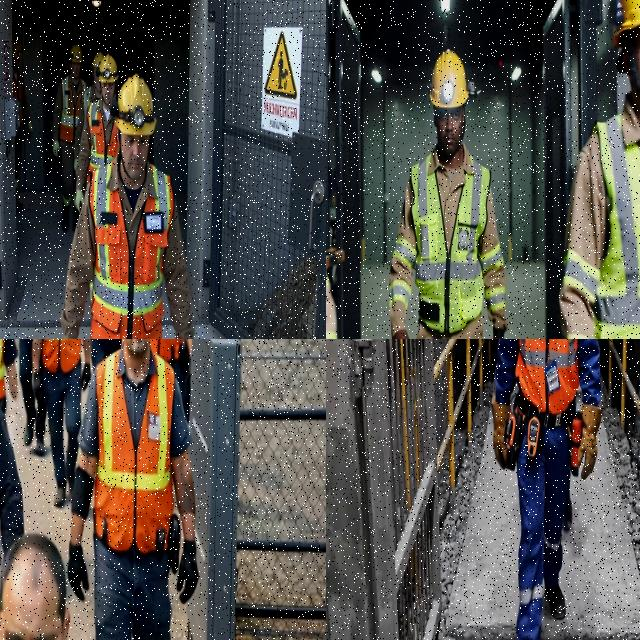Vest: (94, 350, 174, 553), (90, 161, 173, 338), (411, 155, 490, 333), (594, 115, 639, 338), (548, 339, 578, 415), (87, 100, 118, 171), (60, 77, 87, 143), (42, 339, 81, 373), (151, 339, 183, 361), (13, 72, 23, 123), (0, 339, 5, 400)
Worker: (68, 339, 198, 639), (62, 75, 193, 338), (390, 51, 507, 338), (492, 339, 601, 639), (560, 0, 639, 338), (33, 339, 91, 508), (0, 534, 69, 639), (75, 55, 118, 210), (52, 45, 87, 231), (0, 408, 23, 561), (151, 339, 192, 420), (18, 339, 46, 455), (13, 42, 32, 211), (0, 339, 17, 412), (92, 339, 121, 368), (326, 274, 336, 338)
helmet: (429, 50, 479, 108), (115, 74, 155, 135), (614, 0, 639, 47), (99, 55, 118, 83), (69, 44, 82, 63), (92, 51, 104, 70), (13, 42, 21, 58)
